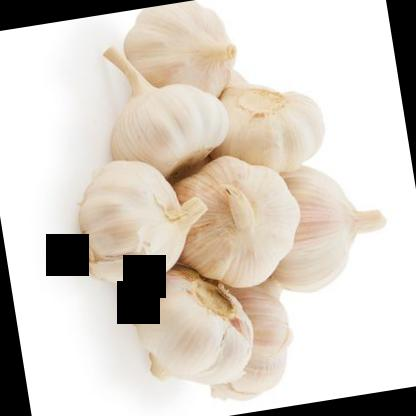garlic: (60, 146, 213, 299), (165, 144, 307, 295), (90, 35, 234, 181), (256, 156, 396, 299), (122, 262, 254, 393), (111, 0, 241, 108), (210, 69, 324, 175)
